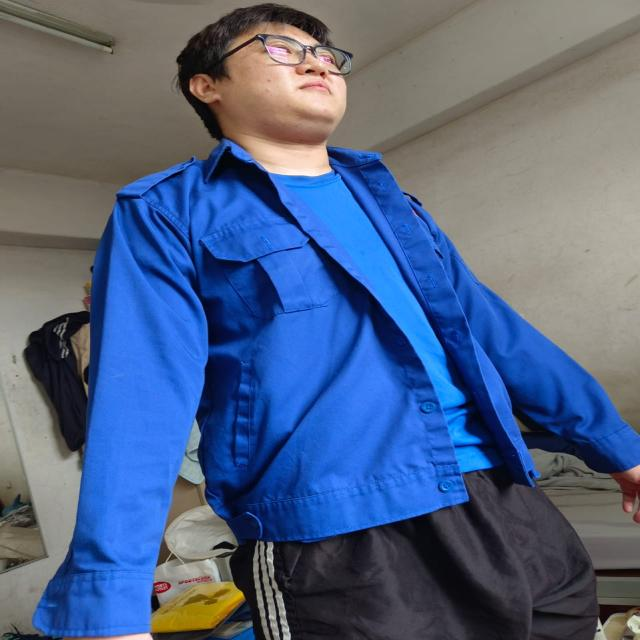person_with_labcoat: (34, 6, 639, 640)
